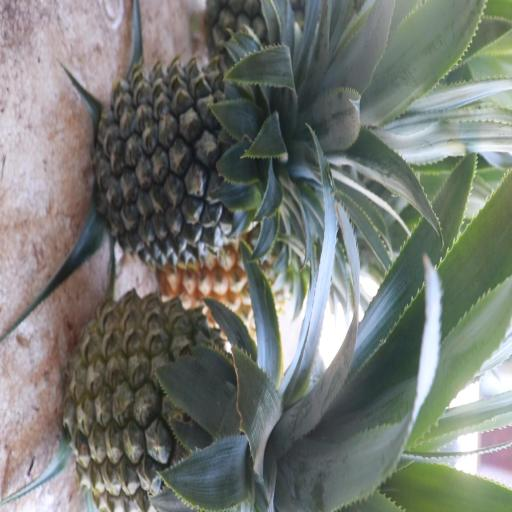------------------------------: (66, 299, 283, 507)
